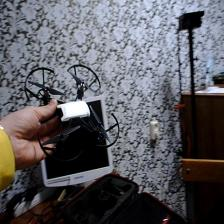drone: (21, 60, 122, 166)
